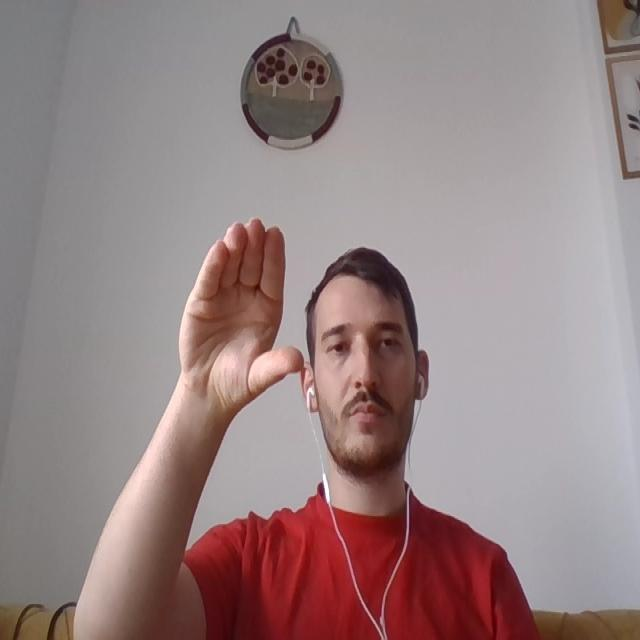no: (188, 226, 298, 408)
